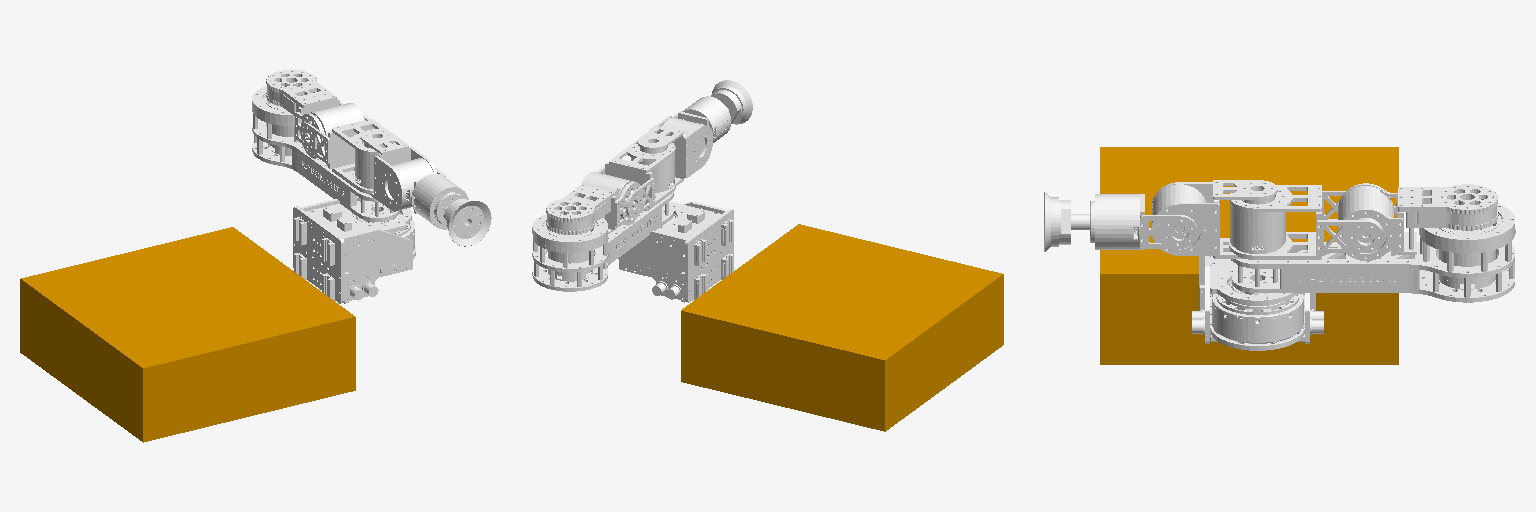
URDF robot description (engineering):
<?xml version="1.0" encoding="utf-8"?>
<!-- This URDF was automatically created by SolidWorks to URDF Exporter! Originally created by Stephen Brawner (brawner@gmail.com)
     Commit Version: 1.6.0-4-g7f85cfe  Build Version: 1.6.7995.38578
     For more information, please see http://wiki.ros.org/sw_urdf_exporter -->
<robot
  name="engineering">
  <link
    name="base_link">
    <inertial>
      <origin
        xyz="0.0316640513947066 0.000990025322590318 0.0242796553879492"
        rpy="0 0 0" />
      <mass
        value="14.5359240726821" />
      <inertia
        ixx="0.0635520558930804"
        ixy="7.56958753189748E-07"
        ixz="0.000121383536516142"
        iyy="0.0744966044646314"
        iyz="-1.74589365533716E-05"
        izz="0.0553730839054275" />
    </inertial>
    <visual>
      <origin xyz="0 0 0" rpy="0 0 0"/>
      <geometry>
        <box size="0.3 0.3 0.1"/>
      </geometry>
    </visual>
<collision>
  <origin xyz="0 0 0" rpy="0 0 0"/>
  <geometry>
    <box size="0.3 0.3 0.1"/>
  </geometry>
</collision>
  </link>
  <link
    name="link0">
    <inertial>
      <origin
        xyz="-0.0426656341883163 1.45674684067467E-05 -0.026925605733885"
        rpy="0 0 0" />
      <mass
        value="0.527978667414384" />
      <inertia
        ixx="0.000413860140140857"
        ixy="-7.85203399046786E-08"
        ixz="-3.25375695484286E-06"
        iyy="0.000456270445226169"
        iyz="9.41252418623816E-08"
        izz="0.000620417683976676" />
    </inertial>
    <visual>
      <origin
        xyz="0 0 0"
        rpy="0 0 0" />
      <geometry>
        <mesh
          filename="package://robot_description/meshes/link0.STL" />
      </geometry>
      <material
        name="">
        <color
          rgba="1 1 1 1" />
      </material>
    </visual>
    <collision> <origin xyz="0 0 0" rpy="0 0 0" /> <geometry> <mesh filename="package://robot_description/meshes/link0.STL" /> </geometry> </collision>
  </link>
  <joint
    name="base_to_arm_link"
    type="fixed">
    <origin
      xyz="0.272038583826751 0.00806856059115645 0.0892308450395353"
      rpy="0 0 0" />
    <parent
      link="base_link" />
    <child
      link="link0" />
    <axis
      xyz="0 0 0" />
  </joint>
  <link
    name="link1">
    <inertial>
      <origin
        xyz="5.40213698460579E-06 0.164026200648651 0.0271417802096991"
        rpy="0 0 0" />
      <mass
        value="0.628167715304593" />
      <inertia
        ixx="0.00193286660773188"
        ixy="7.8934709574372E-07"
        ixz="-2.2928205279204E-09"
        iyy="0.000275686301860535"
        iyz="9.04331021700409E-09"
        izz="0.00215427512180451" />
    </inertial>
    <visual>
      <origin
        xyz="0 0 0"
        rpy="0 0 0" />
      <geometry>
        <mesh
          filename="package://robot_description/meshes/link1.STL" />
      </geometry>
      <material
        name="">
        <color
          rgba="1 1 1 1" />
      </material>
    </visual>
    <collision> <origin xyz="0 0 0" rpy="0 0 0" /> <geometry> <mesh filename="package://robot_description/meshes/link1.STL" /> </geometry> </collision>

  </link>
  <joint
    name="joint0"
    type="revolute">
    <safety_controller k_position="100.0" k_velocity="40.0" soft_lower_limit="-2.8973" soft_upper_limit="2.8973" />

    <origin
      xyz="0 0 0.0110000000000097"
      rpy="0 0 0" />
    <parent
      link="link0" />
    <child
      link="link1" />
    <axis
      xyz="0 0 -1" />
    <limit
      lower="-3.14"
      upper="3.14"
      effort="87"
      velocity="2.3925" />
  </joint>
  <link
    name="link2">
    <inertial>
      <origin
        xyz="-2.10778858145688E-05 -0.0699804300380891 -0.00234469992386188"
        rpy="0 0 0" />
      <mass
        value="0.310860155101363" />
      <inertia
        ixx="0.000145070476575102"
        ixy="6.87644175048574E-09"
        ixz="-9.64074202734722E-09"
        iyy="9.9288991248962E-05"
        iyz="8.28164393041068E-08"
        izz="0.000162123902899647" />
    </inertial>
    <visual>
      <origin
        xyz="0 0 0"
        rpy="0 0 0" />
      <geometry>
        <mesh
          filename="package://robot_description/meshes/link2.STL" />
      </geometry>
      <material
        name="">
        <color
          rgba="1 1 1 1" />
      </material>
    </visual>
        <collision> <origin xyz="0 0 0" rpy="0 0 0" /> <geometry> <mesh filename="package://robot_description/meshes/link2.STL" /> </geometry> </collision>

  </link>
  <joint
    name="joint1"
    type="revolute">
        <safety_controller k_position="100.0" k_velocity="40.0" soft_lower_limit="-2.8973" soft_upper_limit="2.8973" />

    <origin
      xyz="0 0.21 0.0712499999999991"
      rpy="0 0 0" />
    <parent
      link="link1" />
    <child
      link="link2" />
    <axis
      xyz="0 0 1" />
    <limit
      lower="-3.14"
      upper="3.14"
      effort="87"
      velocity="2.3925" />
  </joint>
  <link
    name="link3">
    <inertial>
      <origin
        xyz="-0.0346835713961875 -0.0841474347506511 -0.000159405565736903"
        rpy="0 0 0" />
      <mass
        value="0.256072188633538" />
      <inertia
        ixx="0.000101103235544813"
        ixy="1.53888724697351E-08"
        ixz="-1.24861030076478E-08"
        iyy="8.52404596321857E-05"
        iyz="1.22966296402567E-07"
        izz="0.000133190301466116" />
    </inertial>
    <visual>
      <origin
        xyz="0 0 0"
        rpy="0 0 0" />
      <geometry>
        <mesh
          filename="package://robot_description/meshes/link3.STL" />
      </geometry>
      <material
        name="">
        <color
          rgba="1 1 1 1" />
      </material>
    </visual>
    <collision> <origin xyz="0 0 0" rpy="0 0 0" /> <geometry> <mesh filename="package://robot_description/meshes/link3.STL" /> </geometry> </collision>

  </link>
  <joint
    name="joint2"
    type="revolute">
            <safety_controller k_position="100.0" k_velocity="40.0" soft_lower_limit="-2.8973" soft_upper_limit="2.8973" />

    <origin
      xyz="0.0351249999999999 -0.101499999999985 -0.00699999999999912"
      rpy="0 0 0" />
    <parent
      link="link2" />
    <child
      link="link3" />
    <axis
      xyz="-1 0 0" />
    <limit
      lower="-3.14"
      upper="3.14"
      effort="87"
      velocity="2.3925" />
  </joint>
  <link
    name="link4">
    <inertial>
      <origin
        xyz="0.000491659665040473 -0.0607945845324988 -0.0326737146737972"
        rpy="0 0 0" />
      <mass
        value="0.201994868071281" />
      <inertia
        ixx="8.71444443053187E-05"
        ixy="-1.26557074286767E-08"
        ixz="1.15159856043111E-07"
        iyy="6.70727754608537E-05"
        iyz="-6.42467832117134E-09"
        izz="6.85319926253284E-05" />
    </inertial>
    <visual>
      <origin
        xyz="0 0 0"
        rpy="0 0 0" />
      <geometry>
        <mesh
          filename="package://robot_description/meshes/link4.STL" />
      </geometry>
      <material
        name="">
        <color
          rgba="1 1 1 1" />
      </material>
    </visual>
        <collision> <origin xyz="0 0 0" rpy="0 0 0" /> <geometry> <mesh filename="package://robot_description/meshes/link4.STL" /> </geometry> </collision>

  </link>
  <joint
    name="joint3"
    type="revolute">
            <safety_controller k_position="100.0" k_velocity="40.0" soft_lower_limit="-2.8973" soft_upper_limit="2.8973" />

    <origin
      xyz="-0.0350749980412956 -0.108500013081601 0.0355000000000008"
      rpy="0 0 0" />
    <parent
      link="link3" />
    <child
      link="link4" />
    <axis
      xyz="0 0 1" />
    <limit
      lower="-3.14"
      upper="3.14"
      effort="87"
      velocity="2.3925" />
  </joint>
  <link
    name="link5">
    <inertial>
      <origin
        xyz="-0.0218574167330175 -0.0803555286898056 1.28471852763878E-05"
        rpy="0 0 0" />
      <mass
        value="0.233923856835534" />
      <inertia
        ixx="5.63434311173349E-05"
        ixy="-8.63406542012592E-09"
        ixz="5.75607857862843E-07"
        iyy="6.92857546641657E-05"
        iyz="-1.26233081586473E-07"
        izz="5.40611460683093E-05" />
    </inertial>
    <visual>
      <origin
        xyz="0 0 0"
        rpy="0 0 0" />
      <geometry>
        <mesh
          filename="package://robot_description/meshes/link5.STL" />
      </geometry>
      <material
        name="">
        <color
          rgba="1 1 1 1" />
      </material>
    </visual>
        <collision> <origin xyz="0 0 0" rpy="0 0 0" /> <geometry> <mesh filename="package://robot_description/meshes/link5.STL" /> </geometry> </collision>

  </link>
  <joint
    name="joint4"
    type="revolute">
            <safety_controller k_position="100.0" k_velocity="40.0" soft_lower_limit="-2.8973" soft_upper_limit="2.8973" />

    <origin
      xyz="0.030500000000018 -0.0780000000000333 -0.0321999999999957"
      rpy="0 0 0" />
    <parent
      link="link4" />
    <child
      link="link5" />
    <axis
      xyz="-1 0 0" />
    <limit
      lower="-3.14"
      upper="3.14"
      effort="87"
      velocity="2.3925" />
  </joint>
</robot>

--- Facts derived from the render (not from the file) ---
Views: 3 orthographic renders of the robot side by side, from view 1: azimuth 30°, elevation 25°; view 2: azimuth 150°, elevation 25°; view 3: azimuth 270°, elevation 25°.
Robot: engineering — 7 links, 6 joints (5 revolute, 1 fixed); root link base_link; default pose: every joint at zero.
Visible links, largest first — view 1: base_link, link0, link1, link2, link5, link4, link3; view 2: base_link, link0, link1, link2, link3, link4, link5; view 3: base_link, link1, link0, link2, link3, link5, link4.
Boxes of the visible links, x1=… form: base_link: x1=20, y1=227, x2=355, y2=442; link0: x1=293, y1=199, x2=415, y2=303; link1: x1=252, y1=86, x2=398, y2=221; link2: x1=266, y1=69, x2=364, y2=158; link5: x1=411, y1=168, x2=491, y2=246; link4: x1=361, y1=129, x2=436, y2=211; link3: x1=300, y1=115, x2=396, y2=193; base_link: x1=681, y1=224, x2=1003, y2=431; link0: x1=618, y1=201, x2=733, y2=302; link1: x1=532, y1=192, x2=673, y2=291; link2: x1=546, y1=172, x2=640, y2=234; link3: x1=597, y1=141, x2=675, y2=217; link4: x1=637, y1=116, x2=712, y2=185; link5: x1=673, y1=80, x2=752, y2=142; base_link: x1=1100, y1=147, x2=1398, y2=364; link1: x1=1232, y1=204, x2=1515, y2=302; link0: x1=1192, y1=256, x2=1323, y2=350; link2: x1=1338, y1=183, x2=1497, y2=260; link3: x1=1229, y1=185, x2=1383, y2=259; link5: x1=1044, y1=192, x2=1197, y2=251; link4: x1=1152, y1=180, x2=1277, y2=258.
Bounding box of the posed robot: 0.4703 × 0.4719 × 0.2515 m (x, y, z).
6 mesh visuals loaded from 6 distinct referenced files (6 binary STL).
